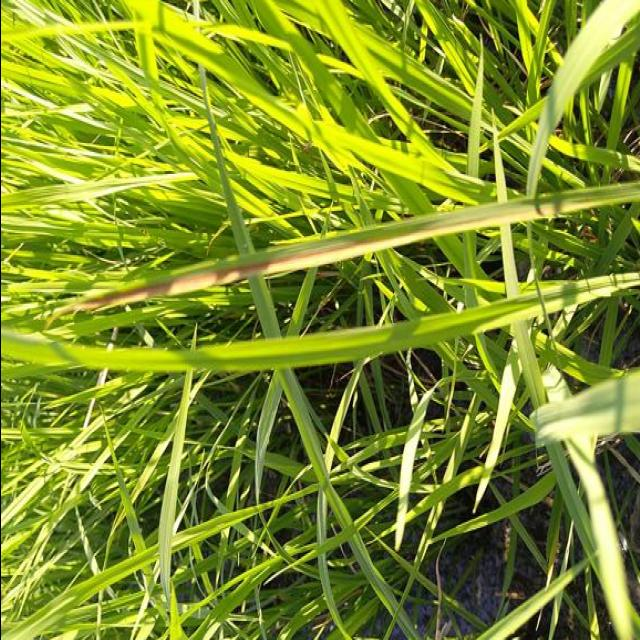Leaf Streak: (74, 184, 640, 311)
